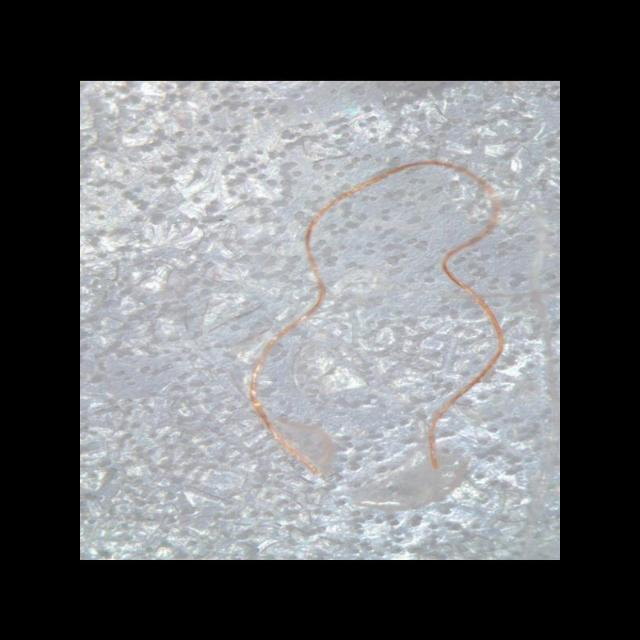Fibre: (245, 158, 509, 480)
